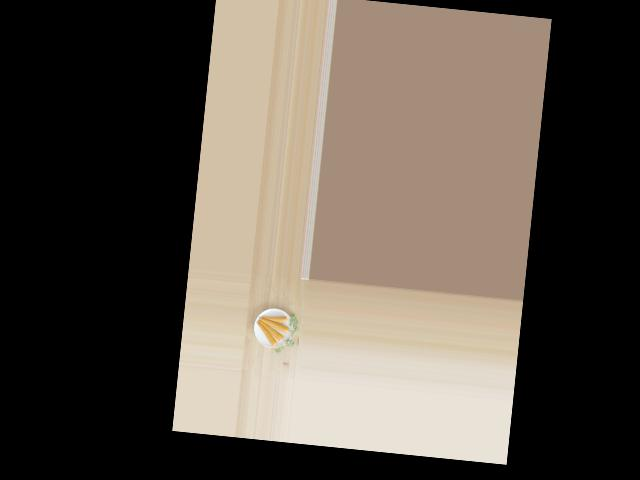carrot: (252, 321, 280, 348)
